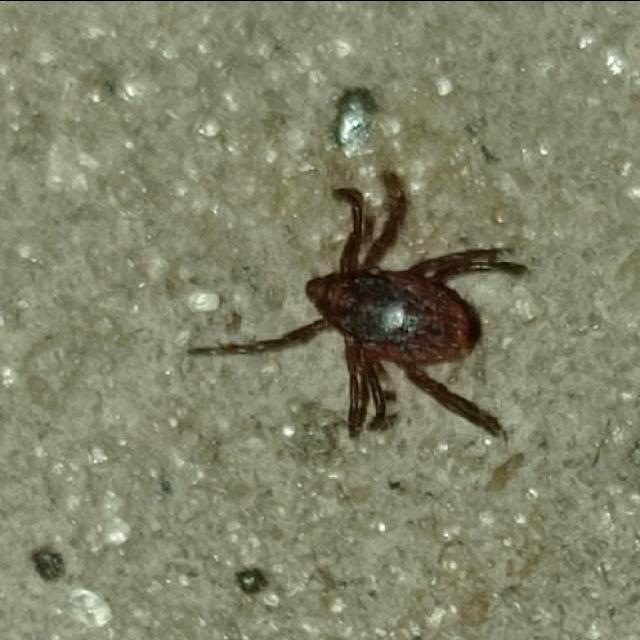Rhipicephalus Sanguineus-F: (187, 169, 527, 438)
